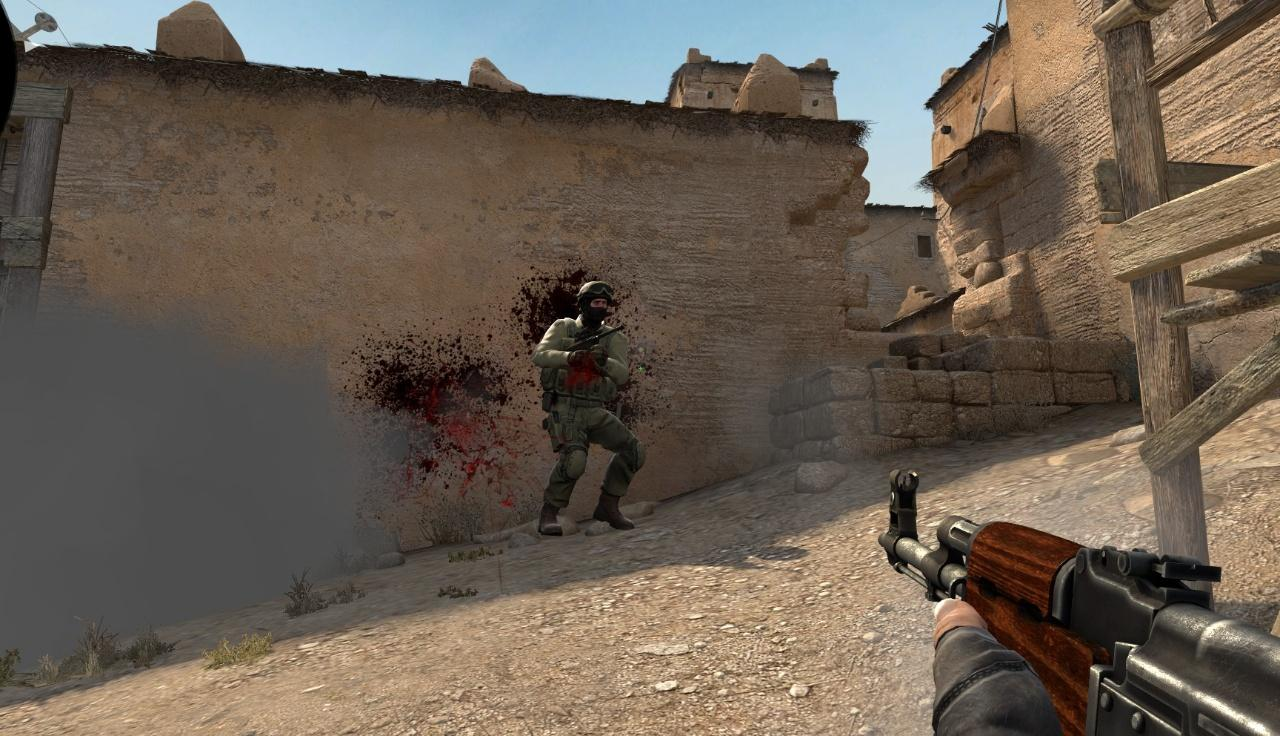ct: (532, 281, 644, 535)
cthead: (579, 282, 610, 323)
rifle: (879, 470, 1280, 736)
